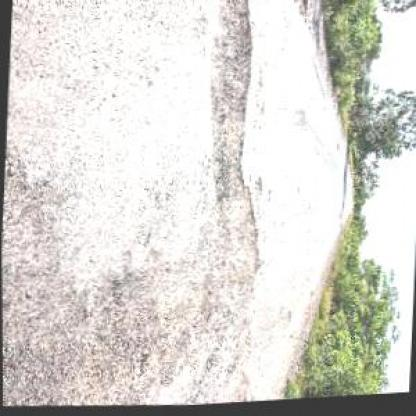pothole: (201, 0, 257, 171), (204, 181, 266, 292)
